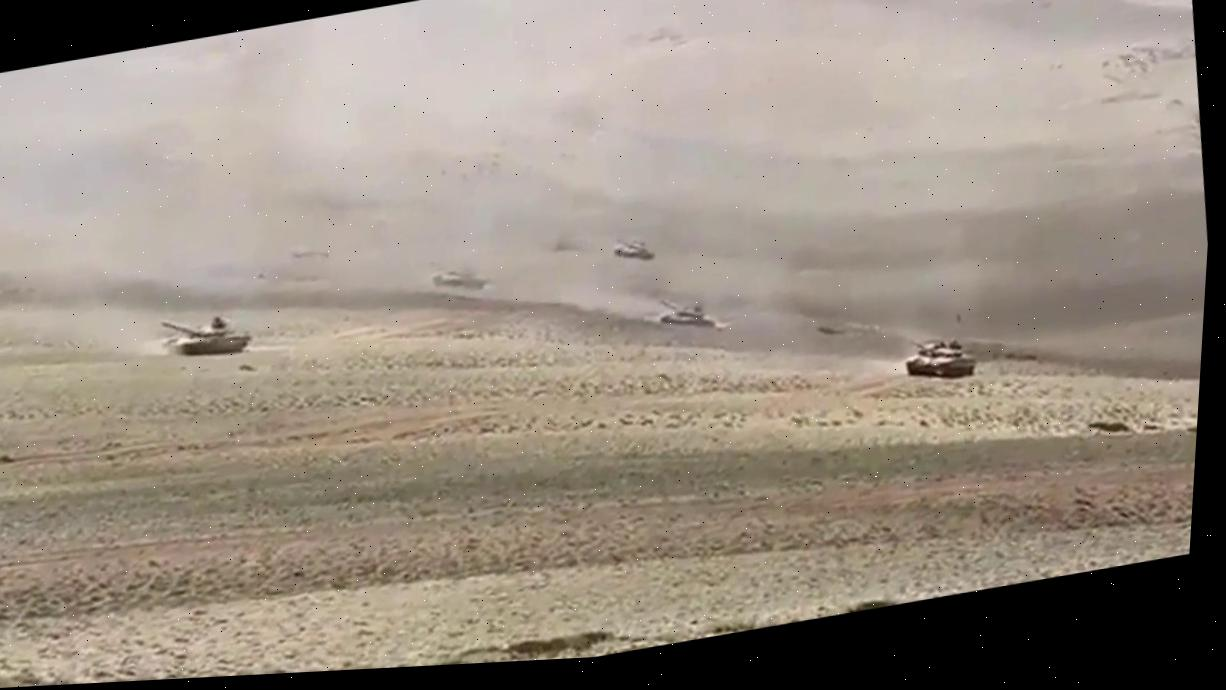tank: (156, 303, 253, 365), (899, 329, 978, 387), (420, 252, 497, 306), (655, 288, 715, 336), (610, 230, 655, 266)
